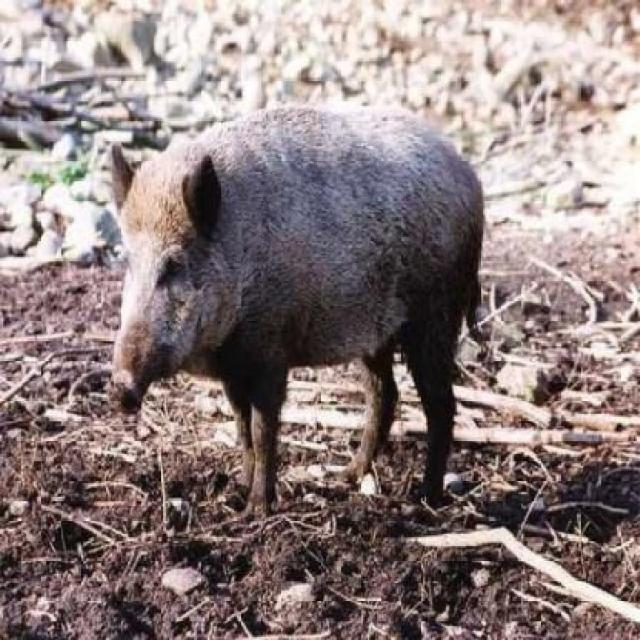pig: (79, 52, 488, 542)
